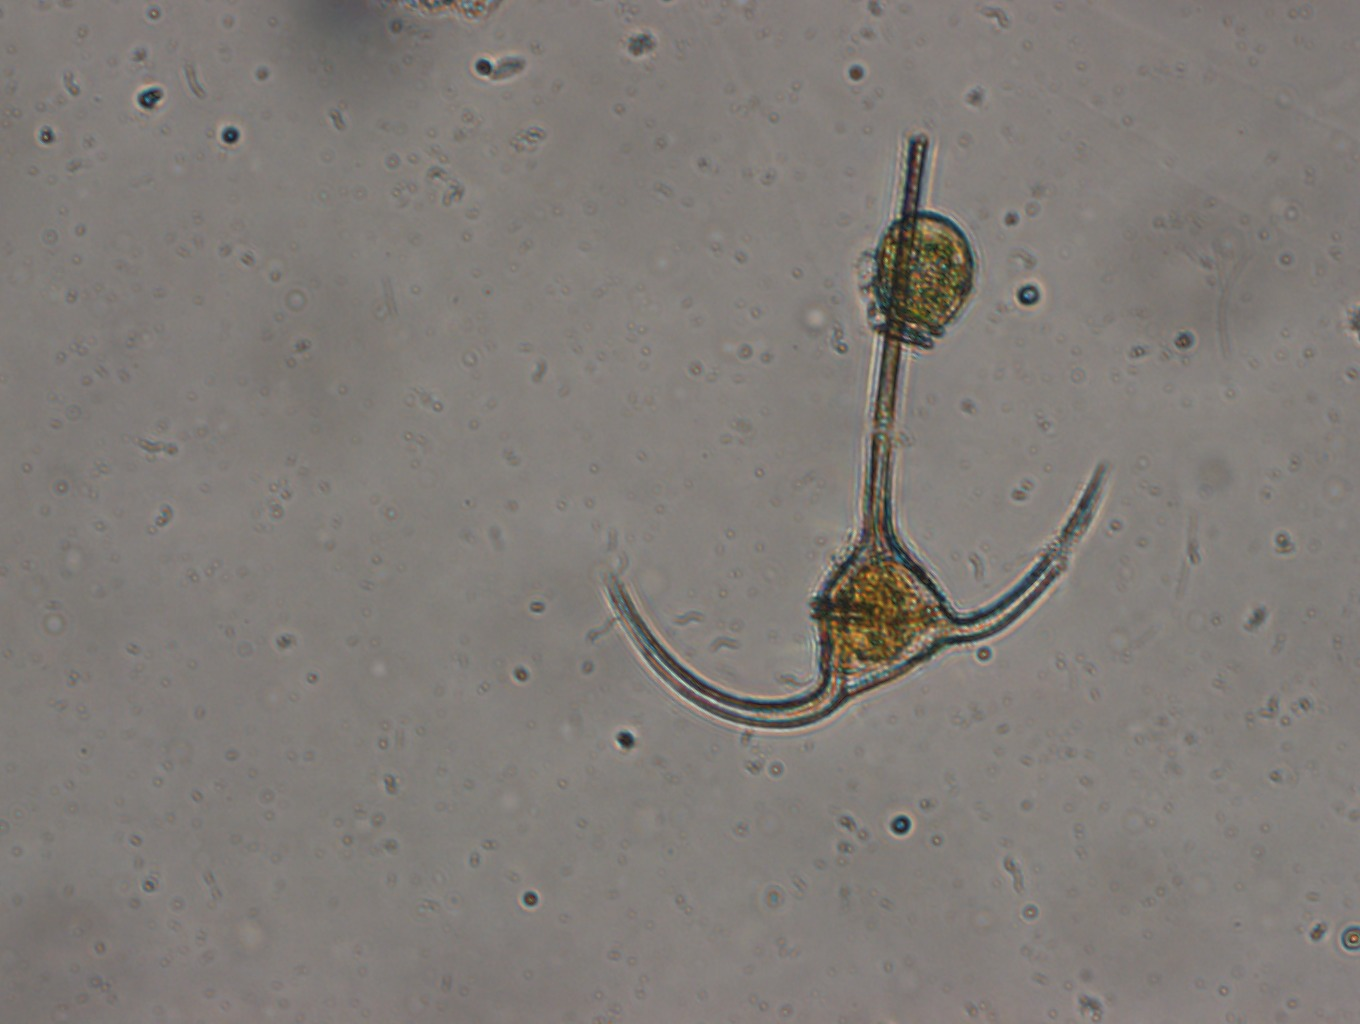ceratium trichoceros: (595, 128, 1115, 739)
